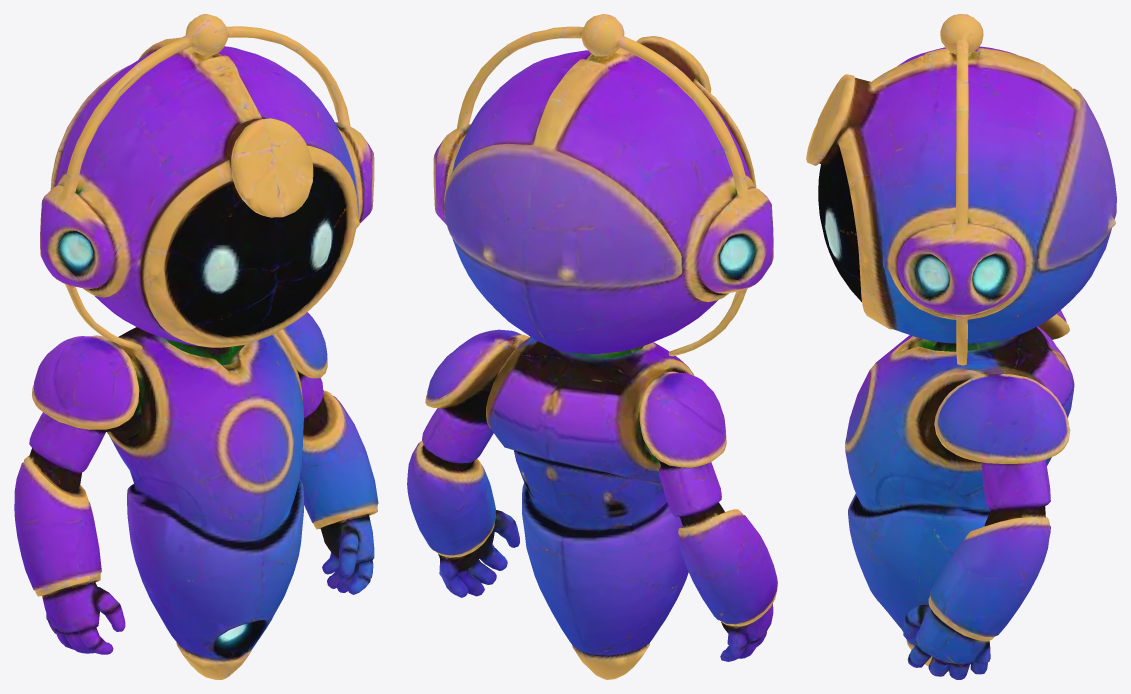
File: architect.glb
3 views of the same model, side by side, from view 1: azimuth 30°, elevation 25°; view 2: azimuth 150°, elevation 25°; view 3: azimuth 270°, elevation 25° (orthographic).
Bounding box in the file's own units: 1.03 × 1.9 × 0.8165.
1 material, 1 textured.
